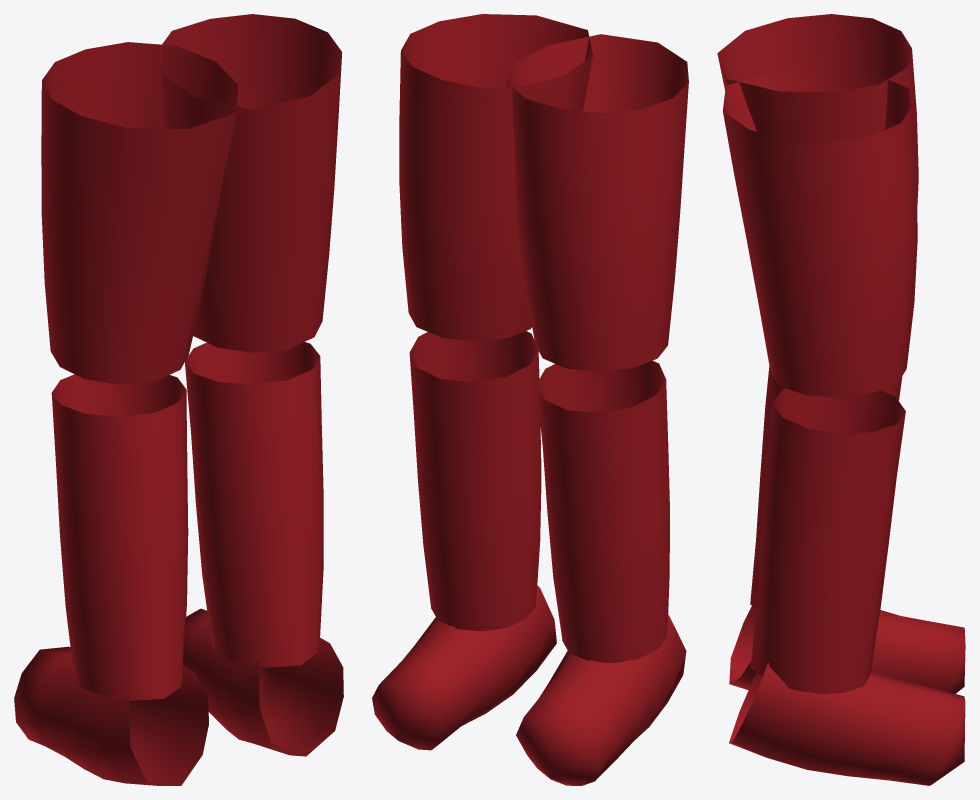
File: santa_pants.glb
3 renders of one model, left to right at view 1: azimuth 30°, elevation 25°; view 2: azimuth 150°, elevation 25°; view 3: azimuth 270°, elevation 25°, orthographic. The views are drawn at different scales.
Visible parts, largest first — view 1: santa_pants_cuisse.L; view 2: santa_pants_cuisse.L; view 3: santa_pants_cuisse.L.
Part boxes in pixels (x1,y1,x2,y2): santa_pants_cuisse.L: (14, 14, 343, 785); santa_pants_cuisse.L: (372, 14, 688, 785); santa_pants_cuisse.L: (717, 14, 965, 785).
Bounding box in the file's own units: 0.391 × 0.9483 × 0.3194.
